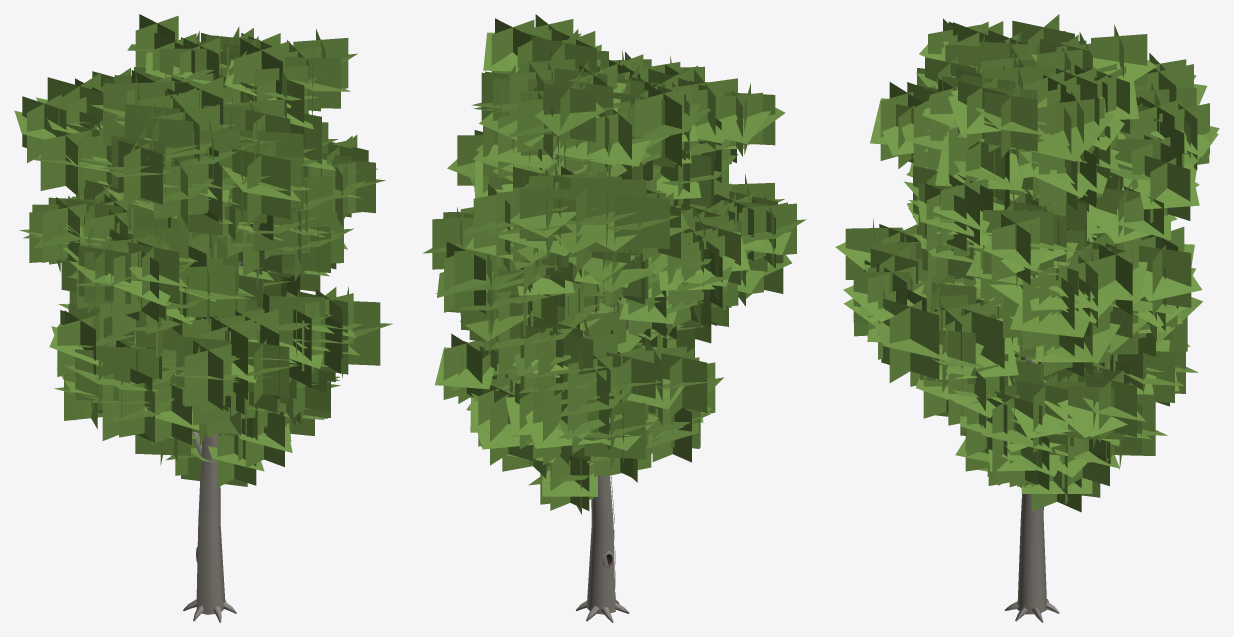
The model's file is tilleul_2_f3_jeu.glb.
3 renders of one model, left to right at view 1: azimuth 30°, elevation 25°; view 2: azimuth 150°, elevation 25°; view 3: azimuth 270°, elevation 25°, orthographic. The views are drawn at different scales.
Parts seen in each view (by area): view 1: Tilleul_T2_f3_Leger; view 2: Tilleul_T2_f3_Leger; view 3: Tilleul_T2_f3_Leger.
Part boxes in pixels (x1,y1,x2,y2): Tilleul_T2_f3_Leger: [14, 14, 392, 622]; Tilleul_T2_f3_Leger: [422, 14, 806, 622]; Tilleul_T2_f3_Leger: [835, 14, 1219, 622].
Size of the model in its own units: 6.15 by 10.4 by 6.34.
